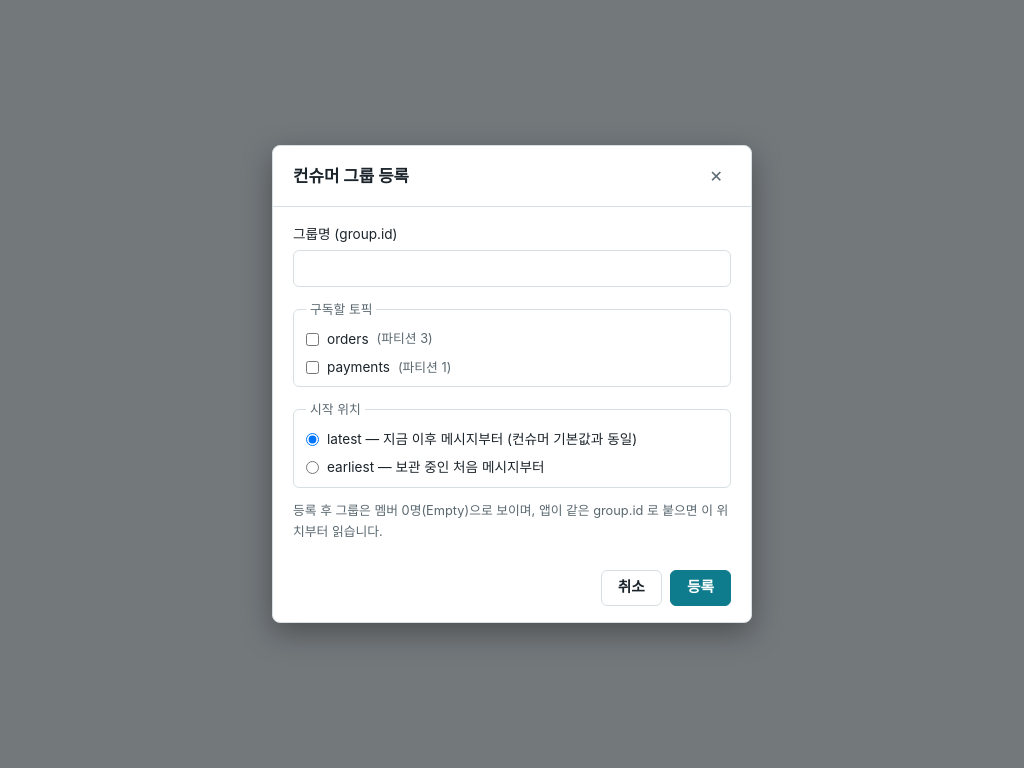
it: GroupRegisterModal › 서버 에러 메시지를 팝업 안에 표시한다
The width and height of the screenshot is (1024, 768).
Type "dup" into the field named "groupId" at {"x": 512, "y": 268}, box [293,250,731,287]
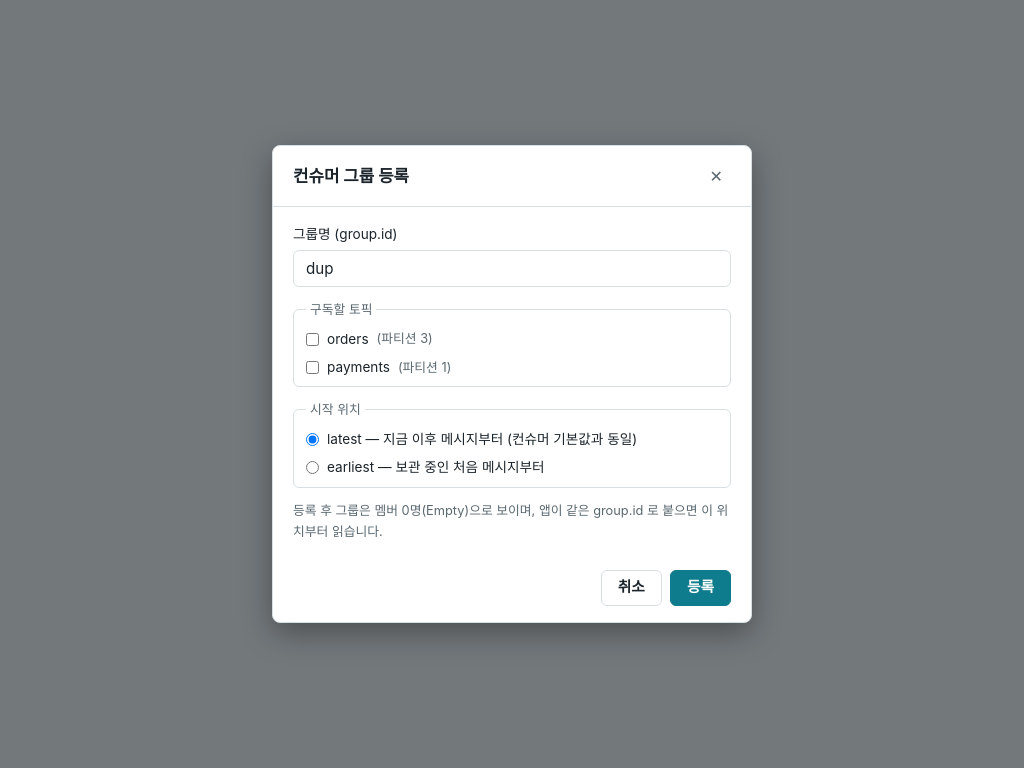
Click the checkbox labelled "orders (파티션 3)" at {"x": 312, "y": 339}, box [306,332,319,346]
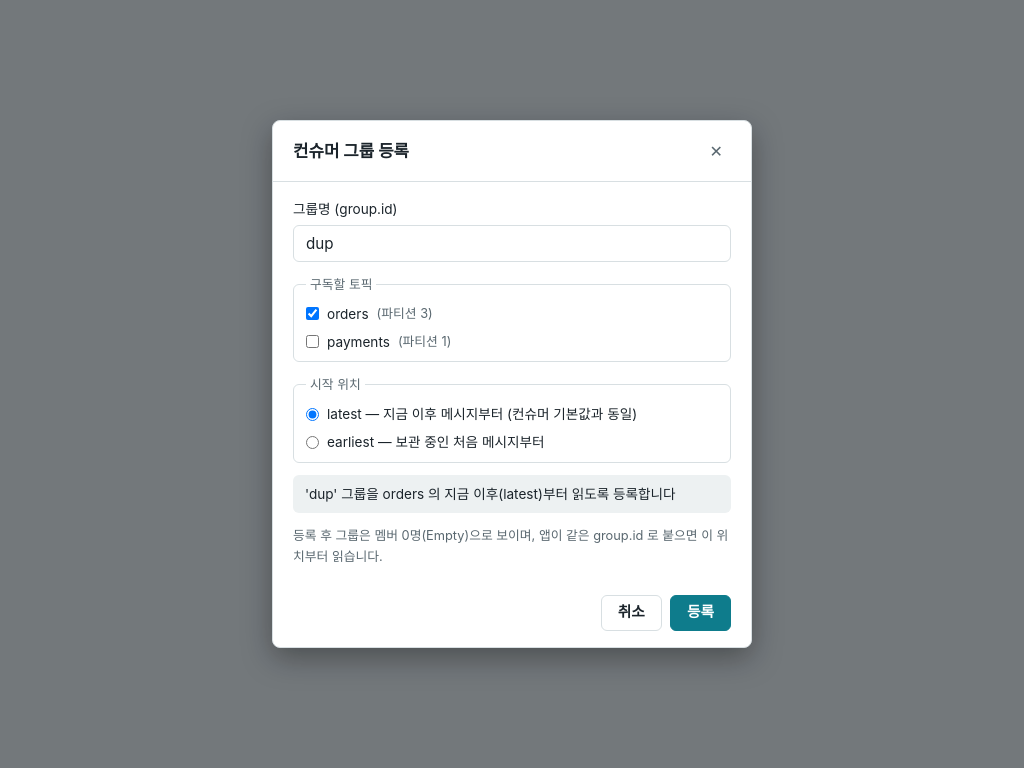
Submit the form, box [293,198,731,567]
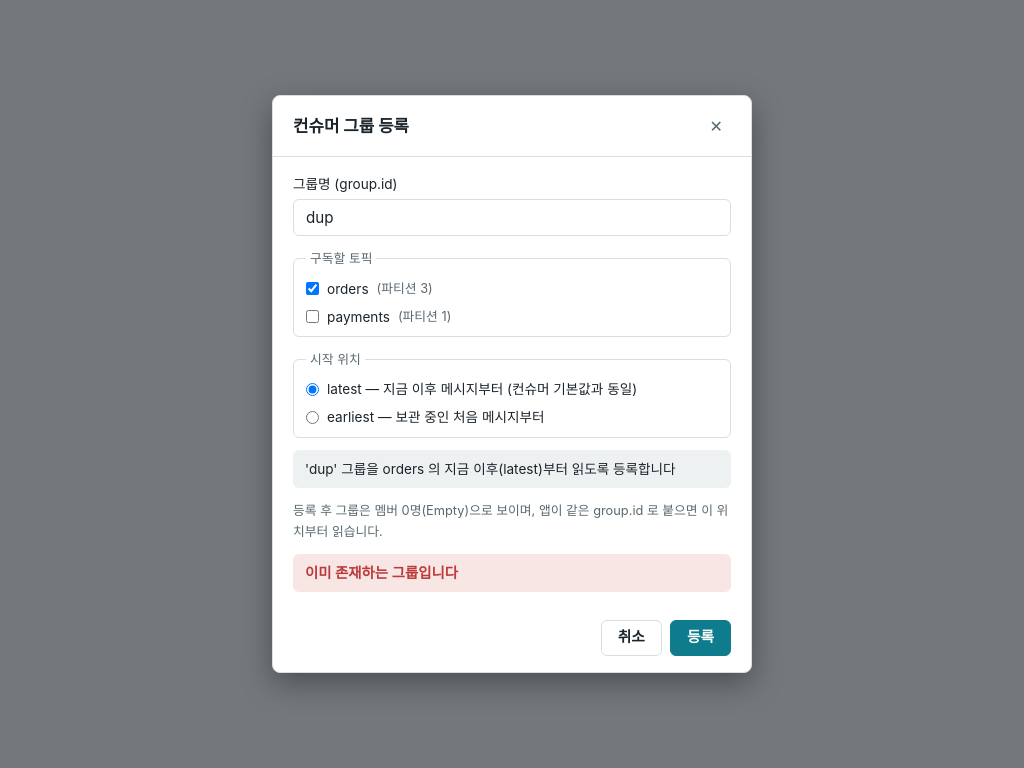
Now the text "이미 존재하는 그룹입니다" is shown, box [293,554,731,592]
